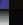grenade: (0, 0, 9, 9)
lifeC: (0, 14, 9, 25)
